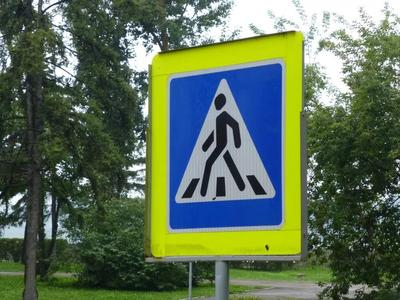crosswalk: (172, 73, 278, 217)
